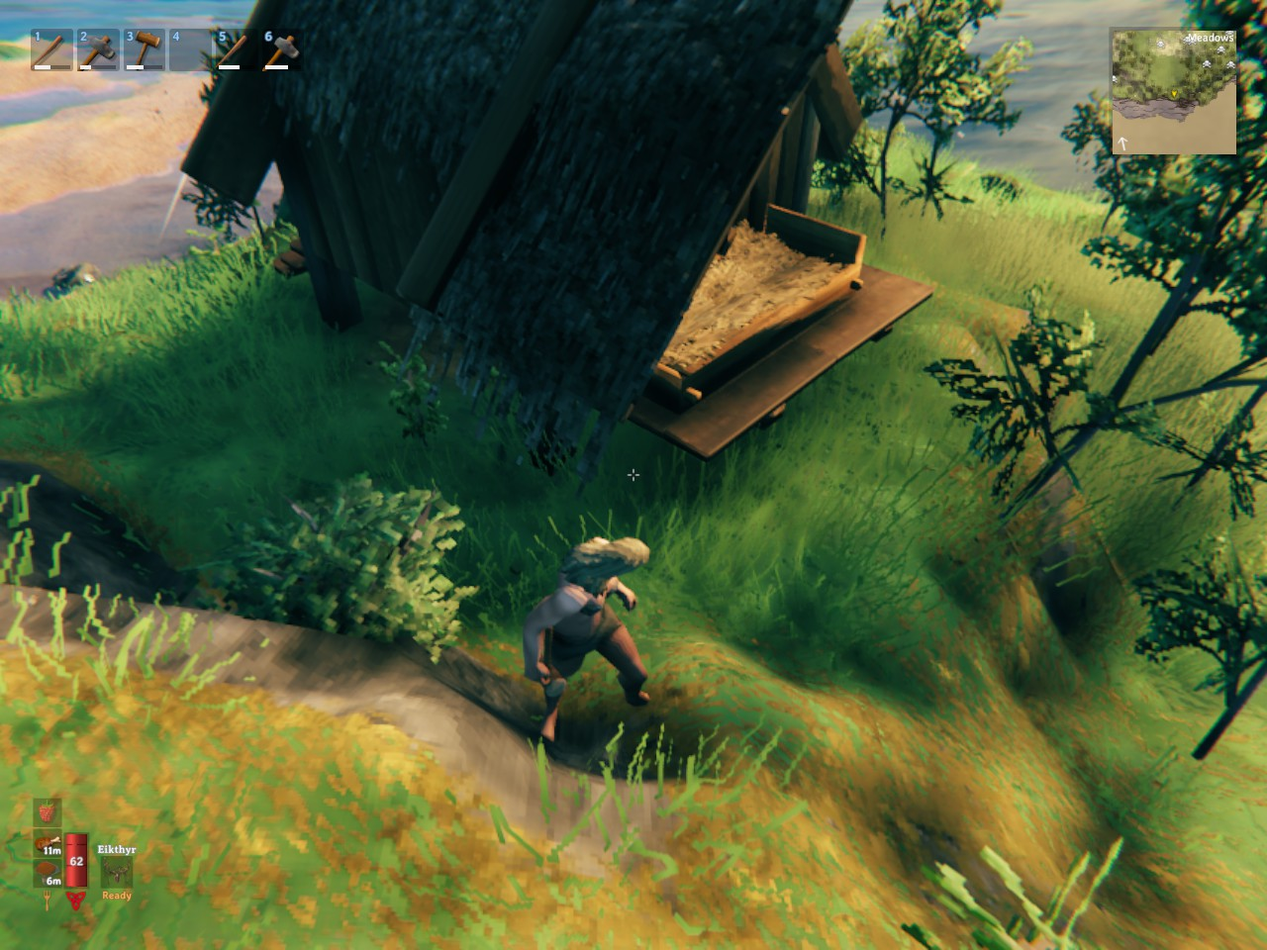Bed: (656, 205, 864, 390)
Food Indicator: (36, 797, 63, 891)
Health Bar: (63, 820, 90, 891)
Hotbar: (25, 21, 398, 78)
House: (176, 2, 939, 459)
